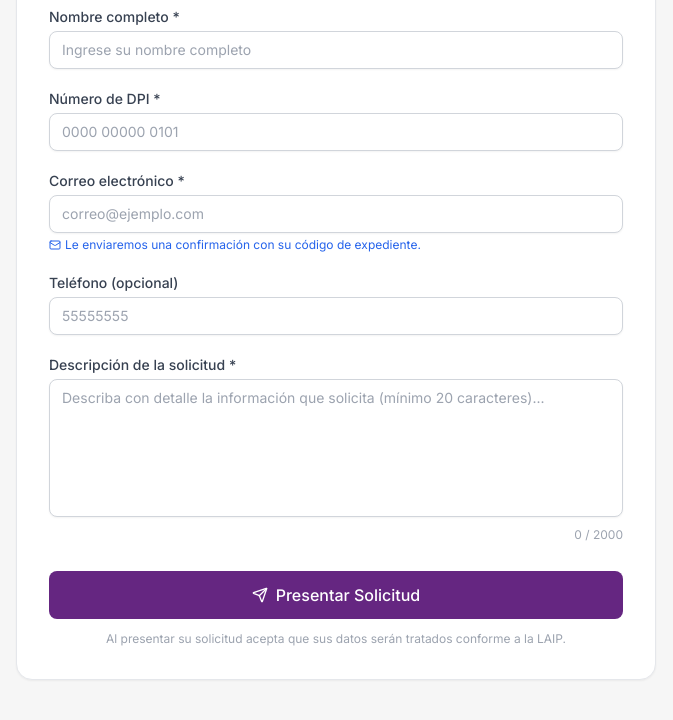
Test: PresentarSolicitudPage › muestra errores de validación con datos inválidos
(page scrolled)
What coordinates should you click on to do the following:
click the button "Presentar Solicitud"
I would click on:
 (336, 595)
Its box is [49, 571, 623, 619].
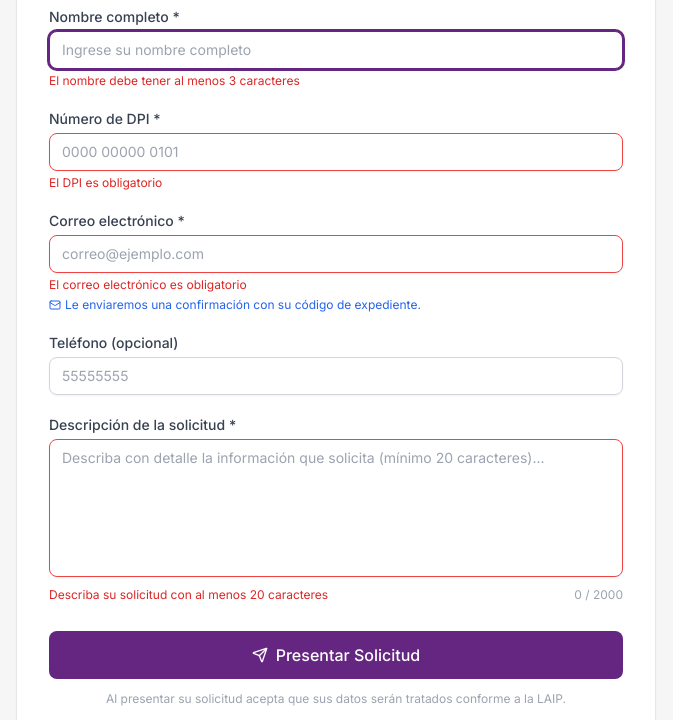
Result: the text "El nombre debe tener al menos 3 caracteres" is shown at [49, 73, 300, 88]
